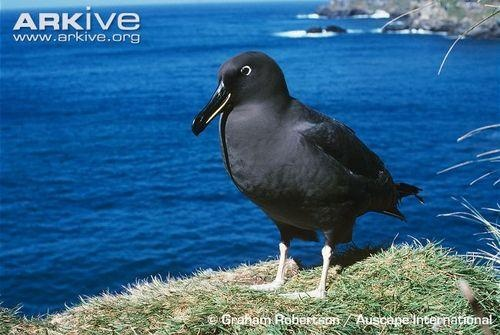bird: (188, 50, 426, 307)
